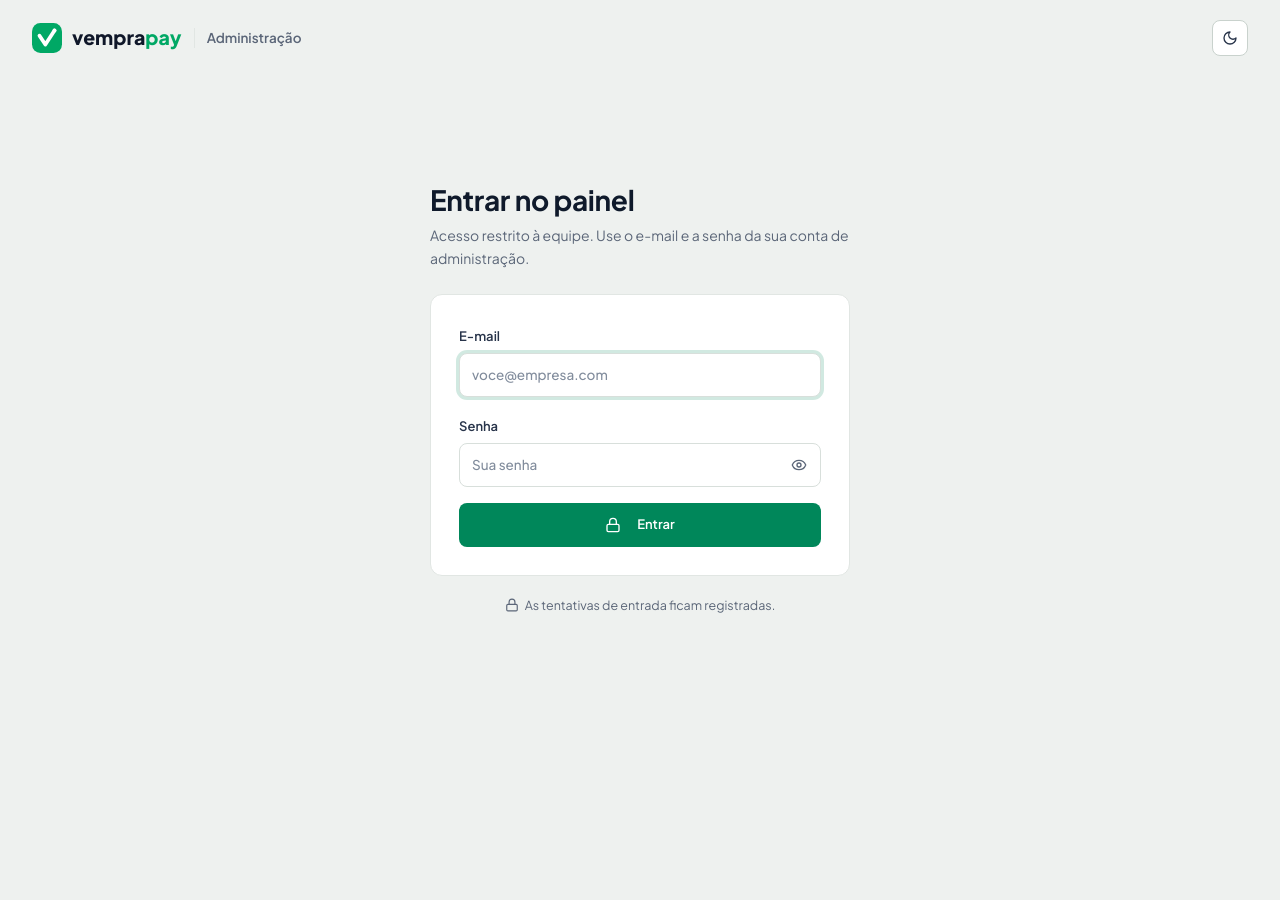
Test: Tela de login do admin › conta bloqueada: o aviso de 15 minutos aparece (antes caía em 'credenciais inválidas')
The image size is (1280, 900).
Step 1. Type "equipe@empresa.com" into the field labelled "E-mail" → (640, 375), box [459,353,821,397]
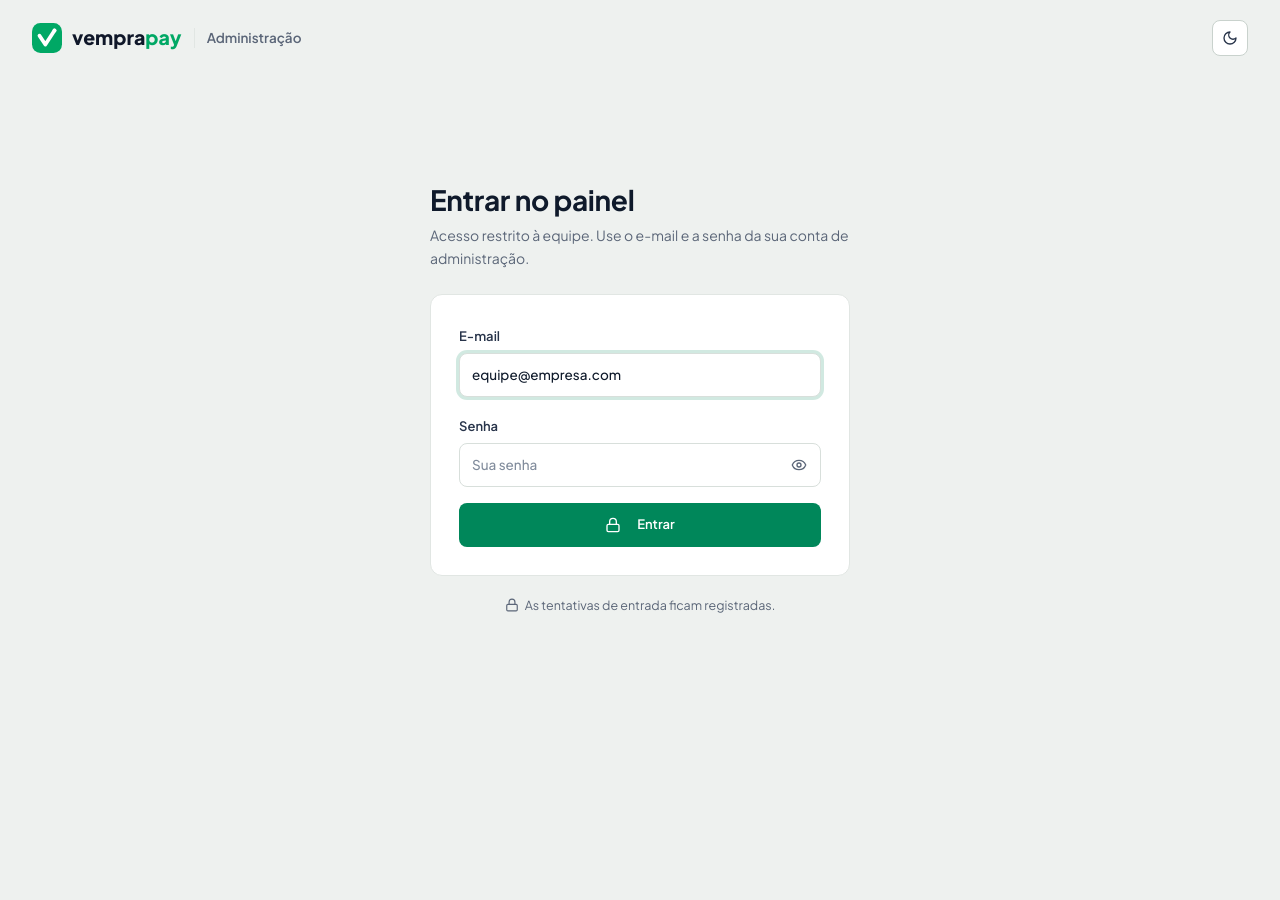
Step 2. Type "segredo1" into the password field labelled "Senha" → (640, 465), box [459,443,821,487]
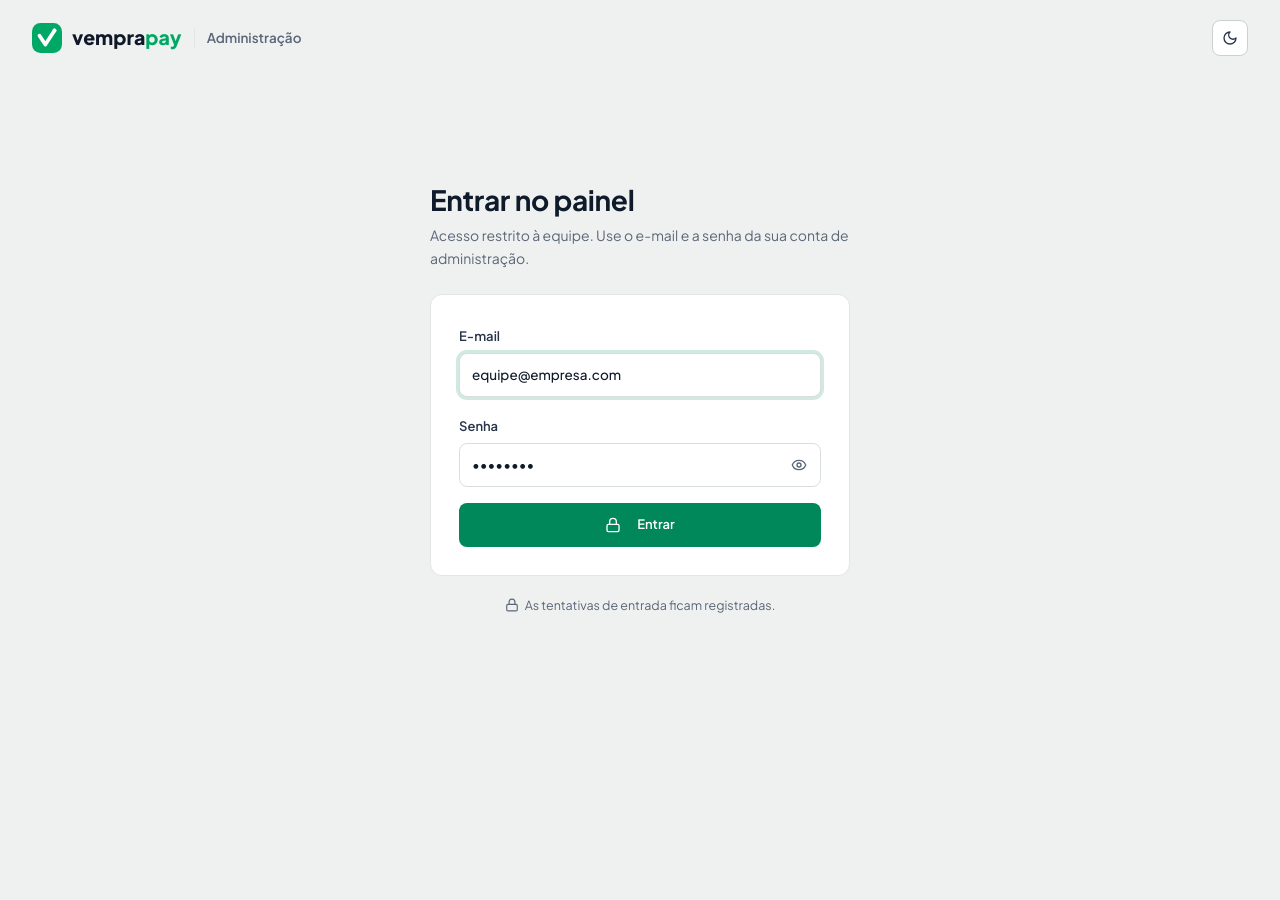
Step 3. Click the button "Entrar" → (640, 525), box [459,503,821,547]
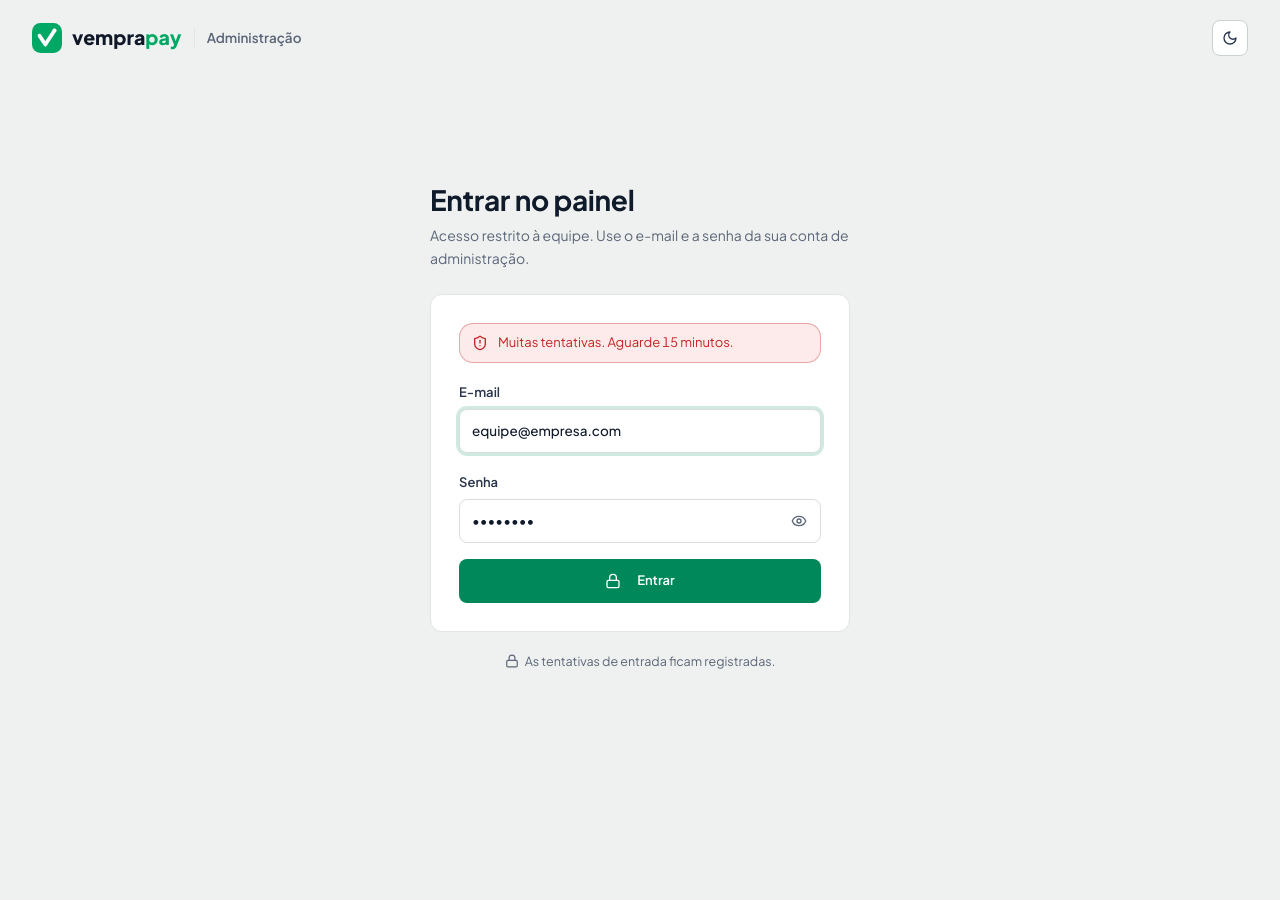
Now the message shows "Aguarde 15 minutos", box [498,334,734,350]
